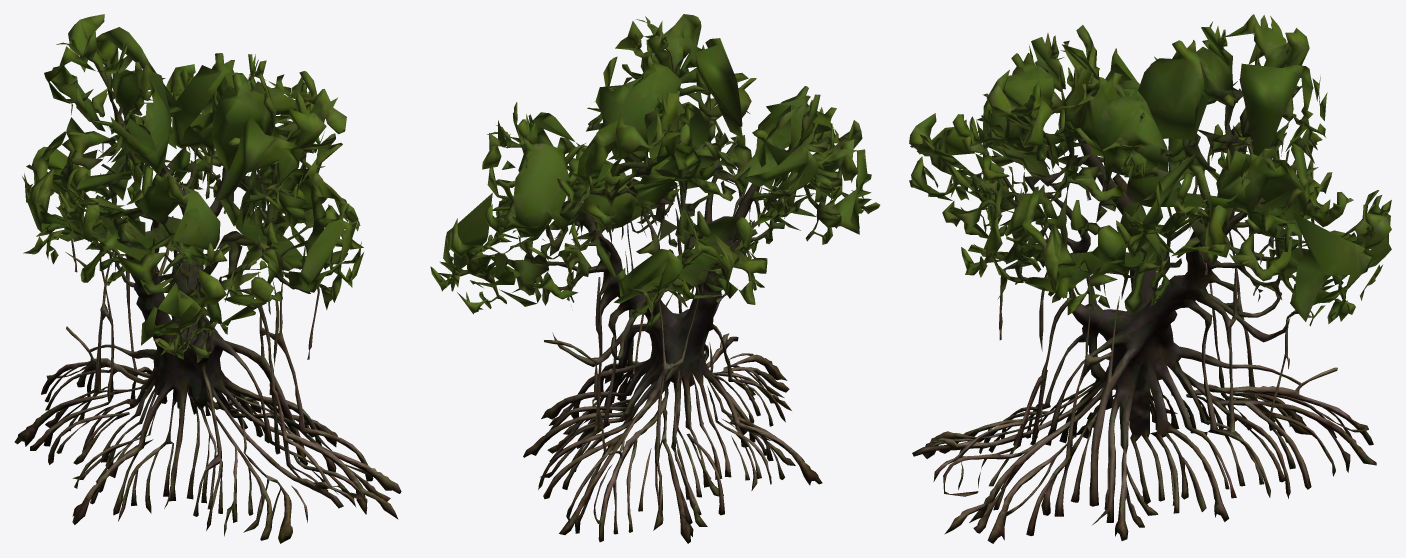
File: runtime-mangrove-tree.glb
The picture shows the model from 3 angles, left to right: view 1: azimuth 30°, elevation 25°; view 2: azimuth 150°, elevation 25°; view 3: azimuth 270°, elevation 25°; orthographic projection. The views are drawn at different scales.
Parts seen in each view (by area): view 1: tripo_node_dc00935c-2376-415c-bc7d-0e2d1af9fbdb; view 2: tripo_node_dc00935c-2376-415c-bc7d-0e2d1af9fbdb; view 3: tripo_node_dc00935c-2376-415c-bc7d-0e2d1af9fbdb.
Part boxes in pixels (box(x1,y1,x2,y2)): tripo_node_dc00935c-2376-415c-bc7d-0e2d1af9fbdb: box(14, 14, 401, 543); tripo_node_dc00935c-2376-415c-bc7d-0e2d1af9fbdb: box(430, 14, 880, 543); tripo_node_dc00935c-2376-415c-bc7d-0e2d1af9fbdb: box(909, 14, 1391, 543).
Size of the model in its own units: 8.55 by 11 by 11.
Materials: 1 (1 with a texture image).
